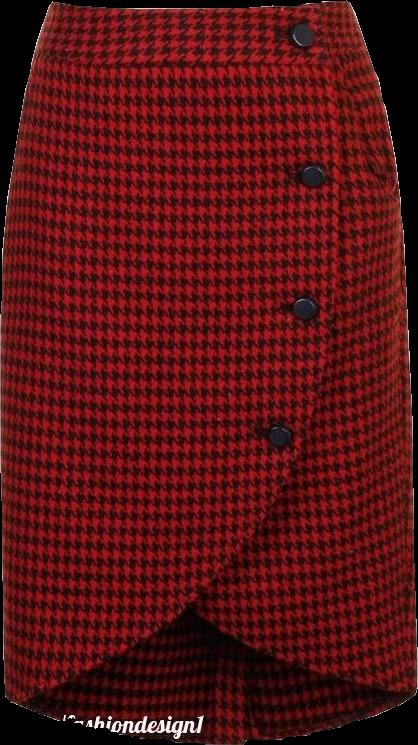Hemline: (6, 5, 344, 701), (182, 599, 417, 694)
Waistline: (49, 0, 346, 18)
